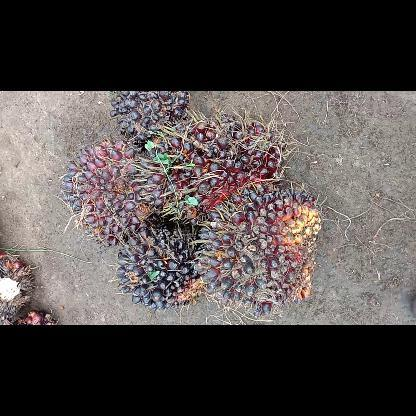TBS mentah: (188, 183, 324, 317), (141, 106, 289, 226), (57, 138, 164, 248), (113, 226, 210, 310), (107, 90, 194, 148)
